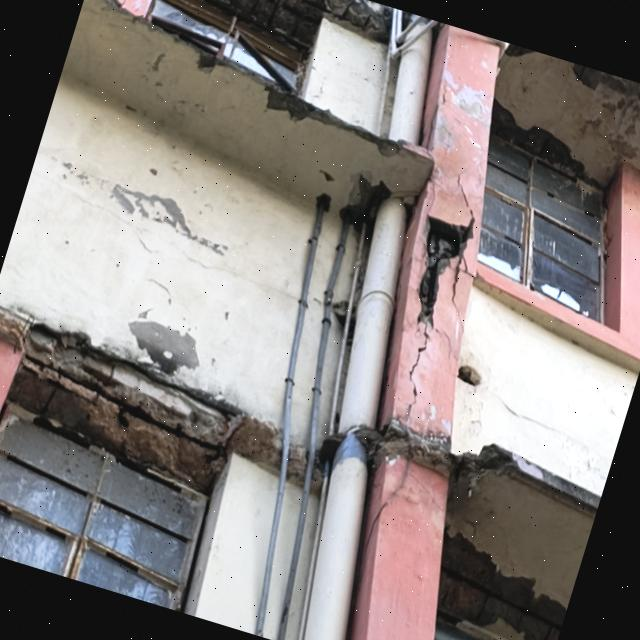Crack: (400, 325, 437, 435), (448, 243, 476, 333), (425, 87, 452, 159), (454, 166, 479, 237), (421, 181, 440, 215)
Paint Peeling: (443, 54, 494, 132)
Spalling: (0, 305, 327, 498), (144, 19, 432, 178), (435, 517, 570, 640), (216, 0, 410, 49), (490, 99, 598, 184), (507, 45, 640, 98), (403, 436, 522, 492), (418, 218, 472, 324), (339, 174, 390, 229)
pollution -moisture induced blackening: (520, 461, 599, 516)
